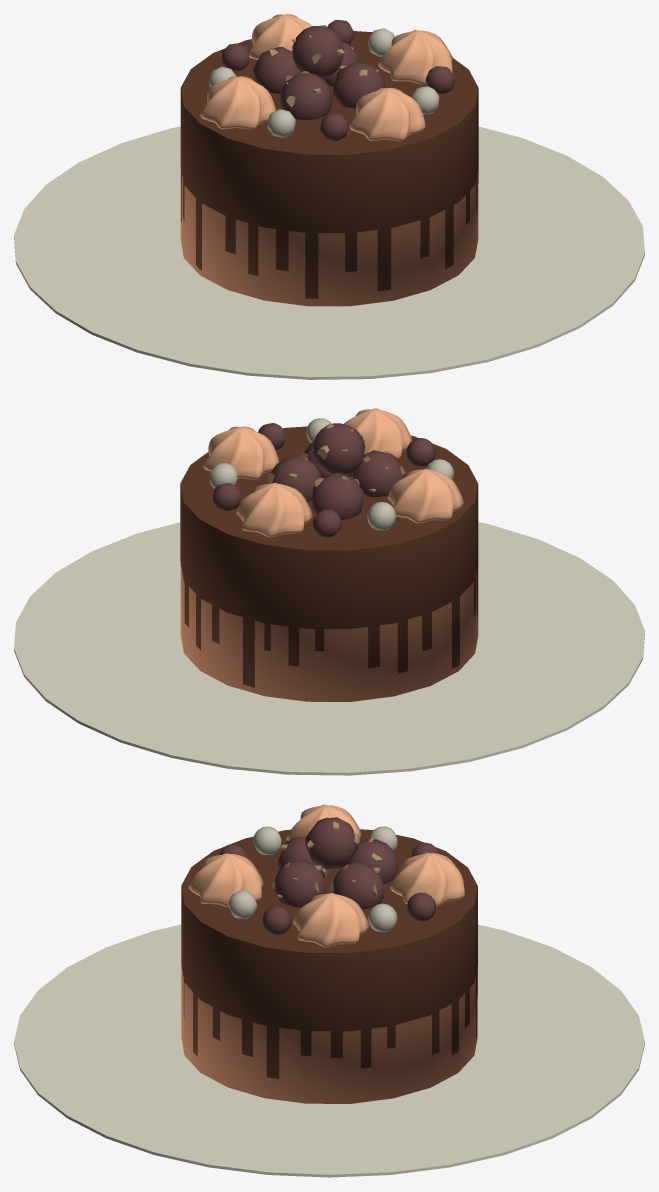
Rendered from Ciko_2.fbx.
3 renders of one model, top to bottom at view 1: azimuth 30°, elevation 25°; view 2: azimuth 150°, elevation 25°; view 3: azimuth 270°, elevation 25°, orthographic.
Parts seen in each view (by area): view 1: Ciko_Kek_2; view 2: Ciko_Kek_2; view 3: Ciko_Kek_2.
Part boxes in pixels (box(x1,y1,x2,y2)): Ciko_Kek_2: box(14, 14, 644, 379); Ciko_Kek_2: box(14, 408, 644, 775); Ciko_Kek_2: box(14, 804, 644, 1177).
Size of the model in its own units: 300 by 116 by 300.
